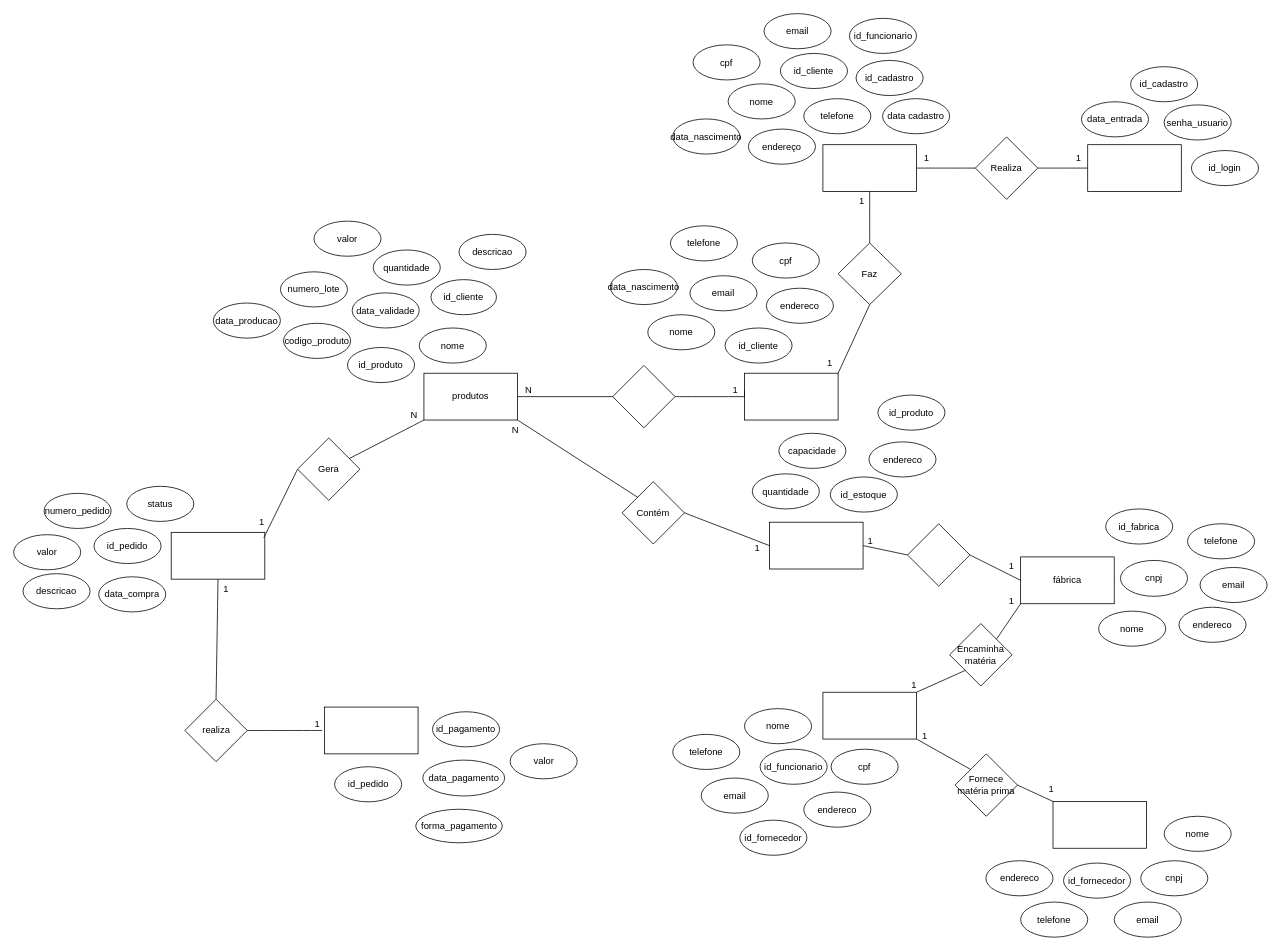
Image size: 1281x951. Some labels were removed from this diagram. Here are the shapes that lost their labels. From the top down, the centre of each, then its label:
At (x=869, y=167): "cadastro".
At (x=1134, y=167): "login".
At (x=643, y=396): "Seleciona".
At (x=791, y=396): "cliente".
At (x=217, y=555): "pedido".
At (x=816, y=545): "estoque".
At (x=938, y=554): "P roduz".
At (x=371, y=730): "pagamento".
At (x=869, y=715): "Funcionário".
At (x=1099, y=824): "fornecedor".
